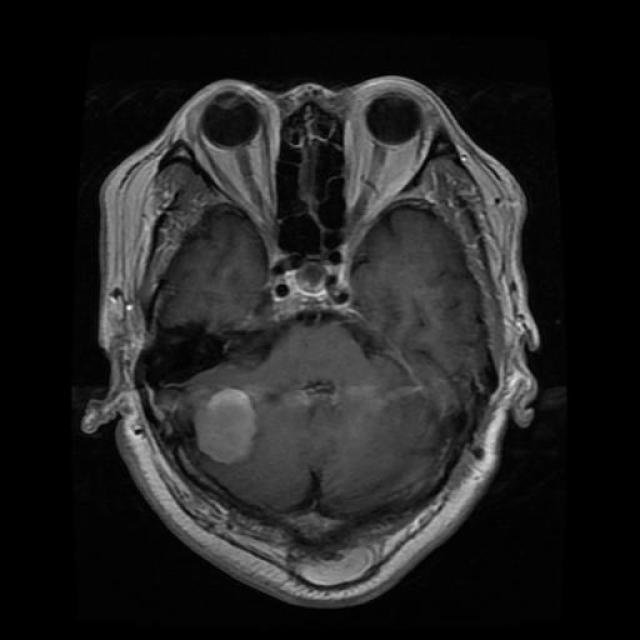meningioma: (195, 390, 255, 464)
